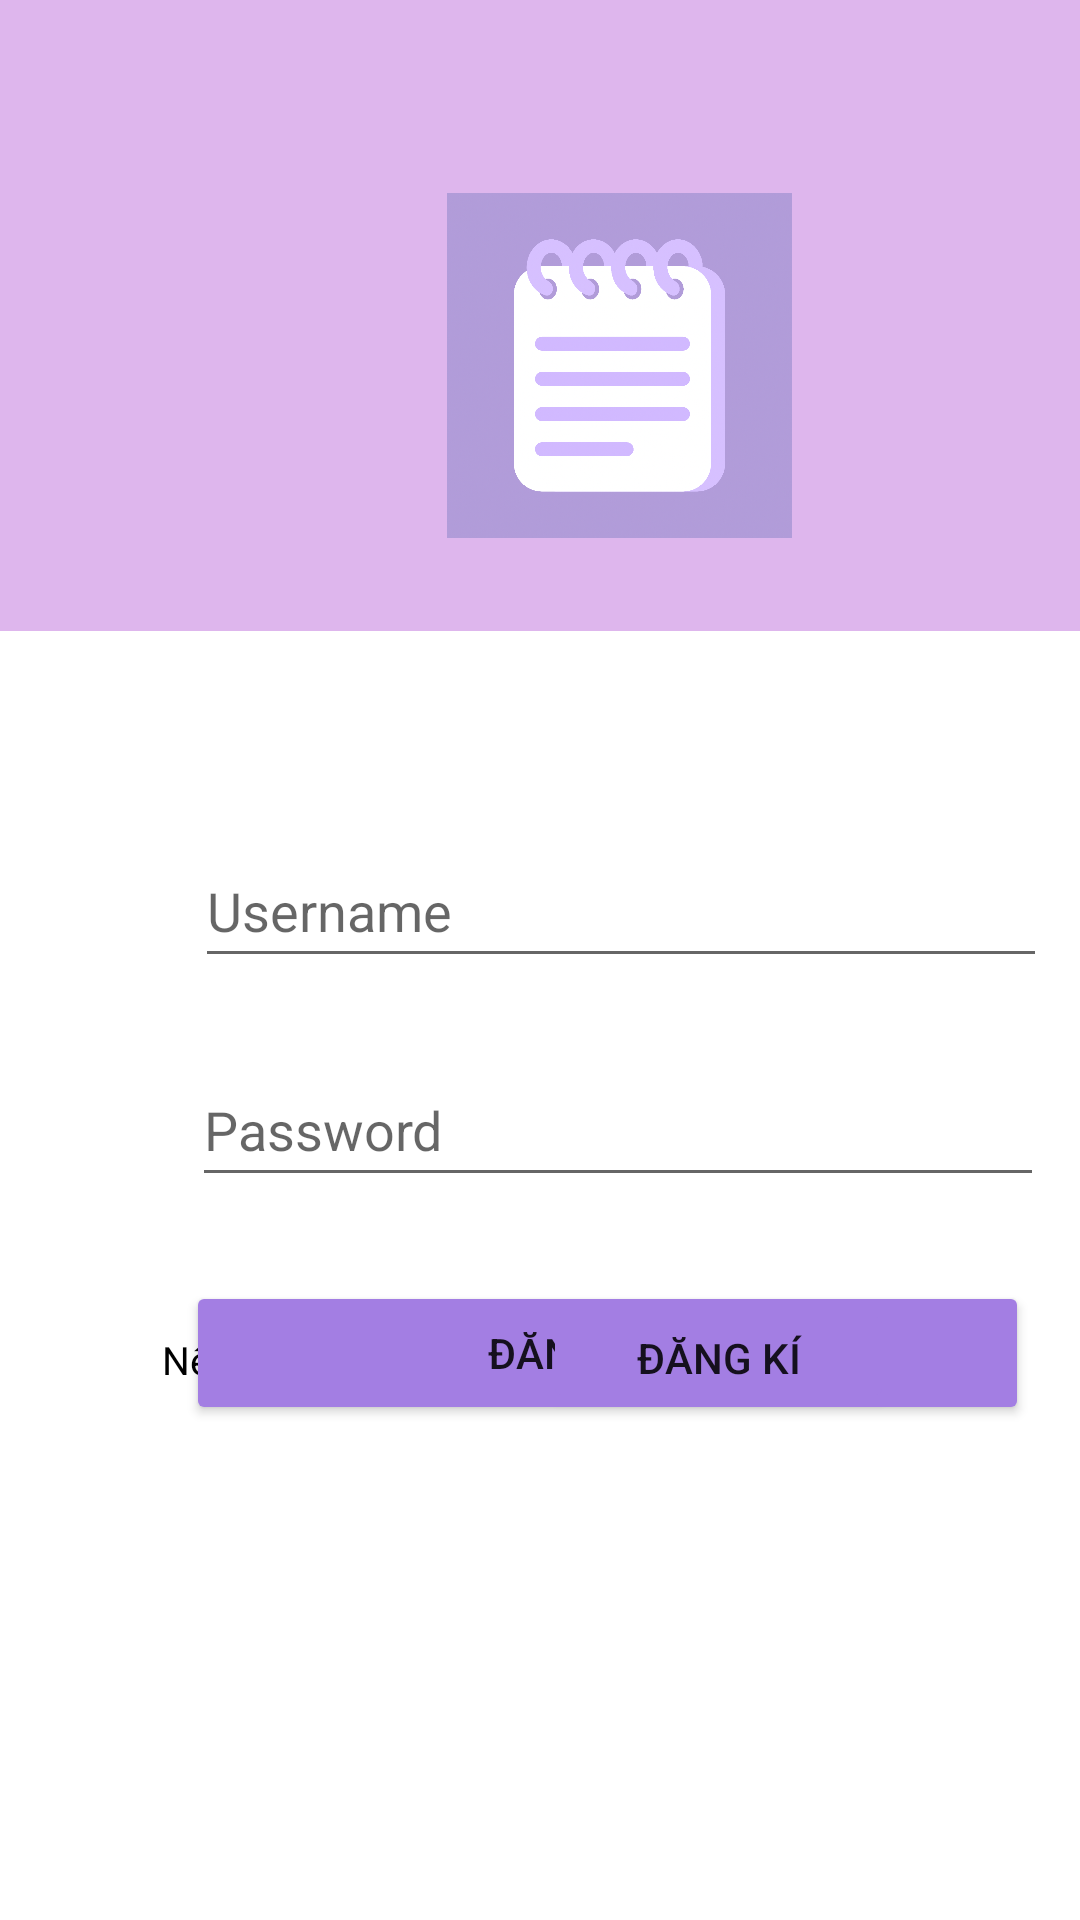

Icons on this 1080w x 1920h Android screen, each with its box as (x1, y1, x2, y2):
noteicon: (447, 193, 792, 538)
